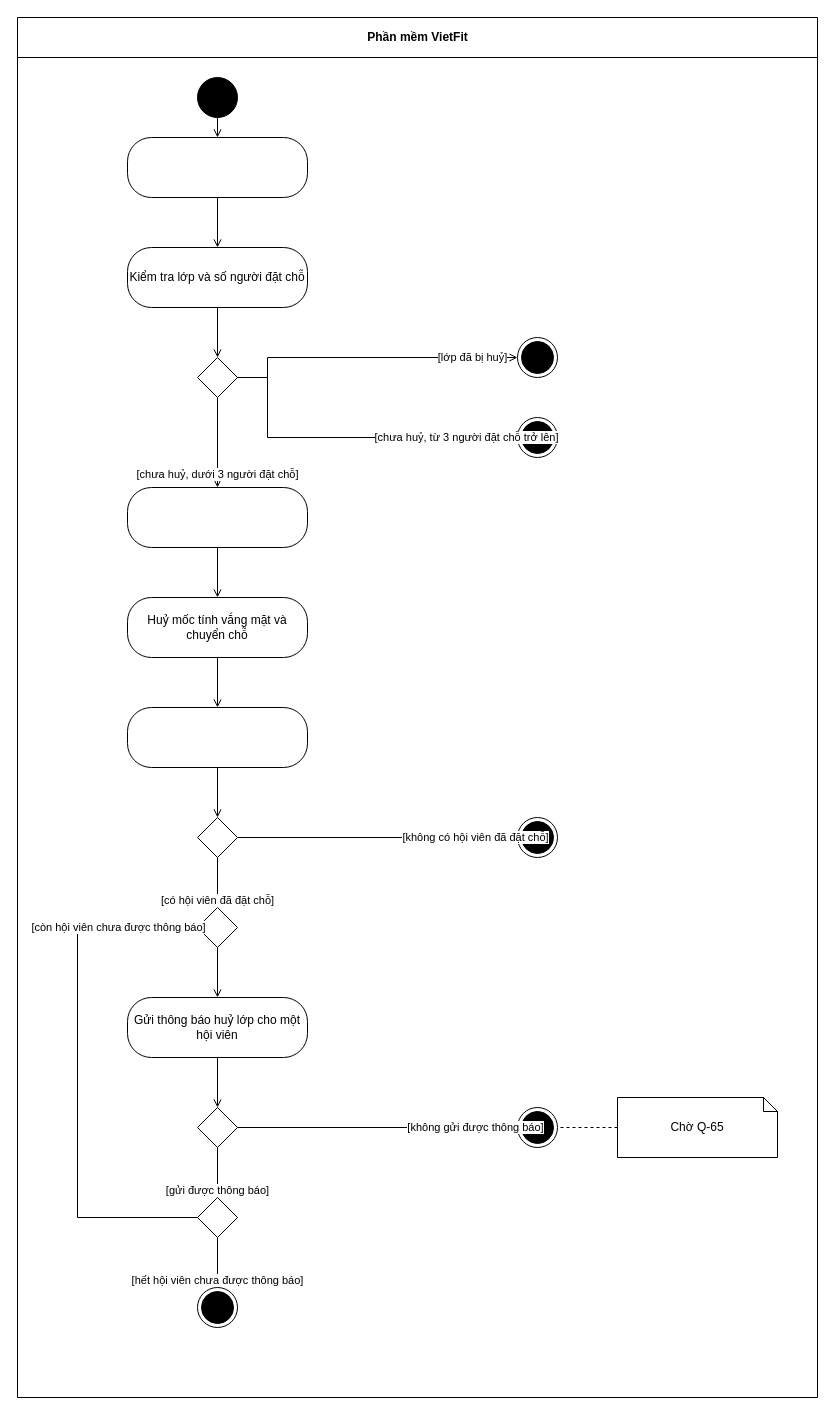
Image size: 835x1415. Some labels were removed from this diagram. The centre of each missing label's shape, as x and y in pixels:
"Huỷ lớp nhóm" belongs at point (217, 517).
"Tới 2 giờ trước giờ học của lớp nhóm" belongs at point (217, 167).
"Xác định hội viên đã đặt chỗ" belongs at point (217, 737).
